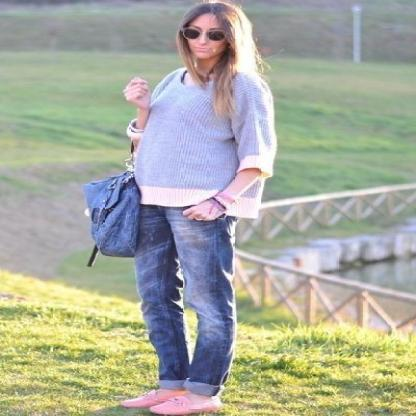bag: (83, 170, 141, 266)
pants: (131, 200, 234, 396)
shirt: (126, 66, 273, 190)
shoe: (121, 381, 211, 415)
